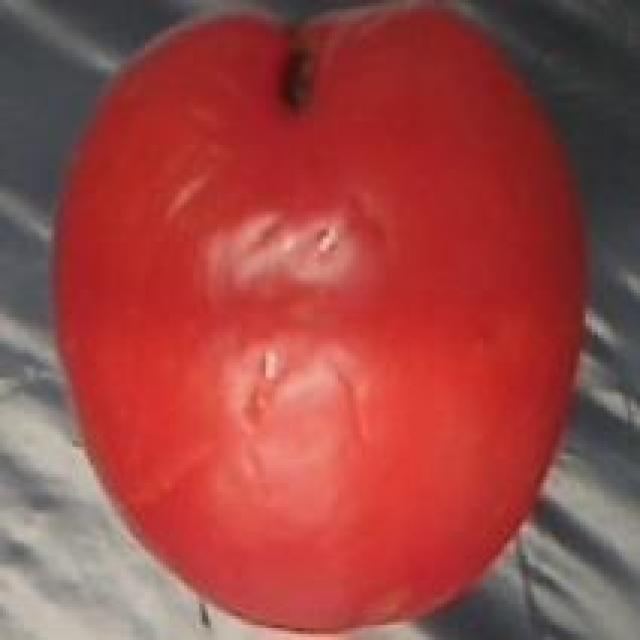overripe tomato: (48, 0, 604, 640)
